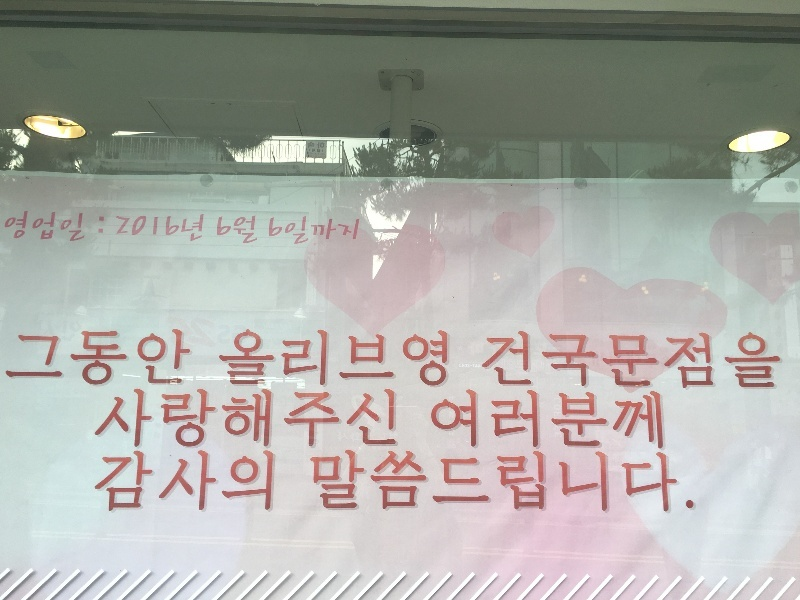text: (113, 448, 128, 515), (129, 448, 144, 515), (145, 448, 160, 515), (161, 448, 176, 515), (177, 448, 192, 515), (193, 448, 208, 515), (209, 448, 224, 515), (225, 448, 240, 515), (241, 448, 256, 515), (257, 448, 272, 515), (257, 388, 273, 449), (321, 450, 336, 514), (337, 450, 352, 514), (353, 450, 368, 514), (369, 450, 384, 514), (385, 450, 400, 514), (401, 450, 416, 514), (417, 450, 432, 514), (433, 450, 448, 514), (449, 450, 464, 514), (465, 450, 480, 514), (481, 450, 496, 514), (497, 450, 512, 514), (513, 450, 528, 514), (529, 450, 544, 514), (545, 450, 560, 514), (561, 450, 576, 514), (577, 450, 592, 514), (593, 450, 608, 514), (609, 450, 624, 514), (625, 450, 640, 514), (641, 450, 656, 514), (657, 450, 672, 514), (673, 450, 688, 514), (17, 329, 32, 392), (33, 329, 48, 392), (49, 329, 64, 392), (65, 329, 80, 392), (81, 329, 96, 392), (97, 329, 112, 392), (113, 329, 128, 392), (129, 329, 144, 392), (145, 329, 160, 392), (161, 329, 176, 392), (177, 329, 192, 392), (433, 389, 448, 451), (449, 389, 464, 451), (465, 389, 480, 451), (481, 389, 496, 451), (497, 389, 512, 451), (513, 389, 528, 451), (529, 389, 544, 451), (545, 389, 560, 451), (561, 389, 576, 451), (577, 389, 592, 451), (593, 389, 608, 451), (609, 389, 624, 451), (625, 389, 640, 451), (641, 389, 656, 451), (129, 388, 144, 449), (145, 388, 160, 449), (161, 388, 176, 449), (177, 388, 192, 449), (193, 388, 208, 449), (209, 388, 224, 449), (225, 388, 240, 449), (241, 388, 256, 449), (497, 330, 512, 391), (513, 330, 528, 391), (529, 330, 544, 391), (545, 330, 560, 391), (561, 330, 576, 391), (577, 330, 592, 391), (593, 330, 608, 391), (609, 330, 624, 391), (625, 330, 640, 391), (641, 330, 656, 391), (657, 330, 672, 391), (673, 330, 688, 391), (689, 330, 704, 391), (705, 330, 720, 391), (721, 330, 736, 391), (737, 330, 752, 391), (753, 330, 768, 391), (769, 330, 784, 391), (225, 330, 240, 389), (241, 330, 256, 389), (257, 330, 272, 389), (273, 330, 288, 389), (289, 330, 304, 389), (305, 330, 320, 389), (321, 330, 336, 389), (337, 330, 352, 389), (353, 330, 368, 389), (369, 330, 384, 389), (385, 330, 400, 389), (401, 330, 416, 389), (417, 330, 432, 389), (433, 330, 448, 389), (309, 450, 320, 514), (117, 388, 128, 449), (485, 330, 496, 391), (102, 448, 112, 515), (689, 450, 699, 514), (17, 210, 32, 244), (33, 210, 48, 244), (49, 210, 64, 244), (65, 210, 80, 244), (81, 210, 96, 244), (273, 213, 288, 247), (289, 213, 304, 247), (305, 213, 320, 247), (321, 213, 336, 247), (337, 213, 352, 247), (657, 389, 665, 451), (129, 212, 144, 244), (145, 212, 160, 244), (161, 212, 176, 244), (177, 212, 192, 244), (225, 215, 240, 247), (241, 215, 256, 247), (114, 212, 128, 244), (4, 210, 16, 244), (193, 212, 205, 244), (218, 330, 224, 389), (97, 210, 106, 244), (353, 213, 362, 247), (217, 215, 224, 247), (267, 213, 272, 247), (273, 448, 275, 515), (193, 329, 194, 392), (449, 330, 450, 389), (257, 215, 258, 247)
